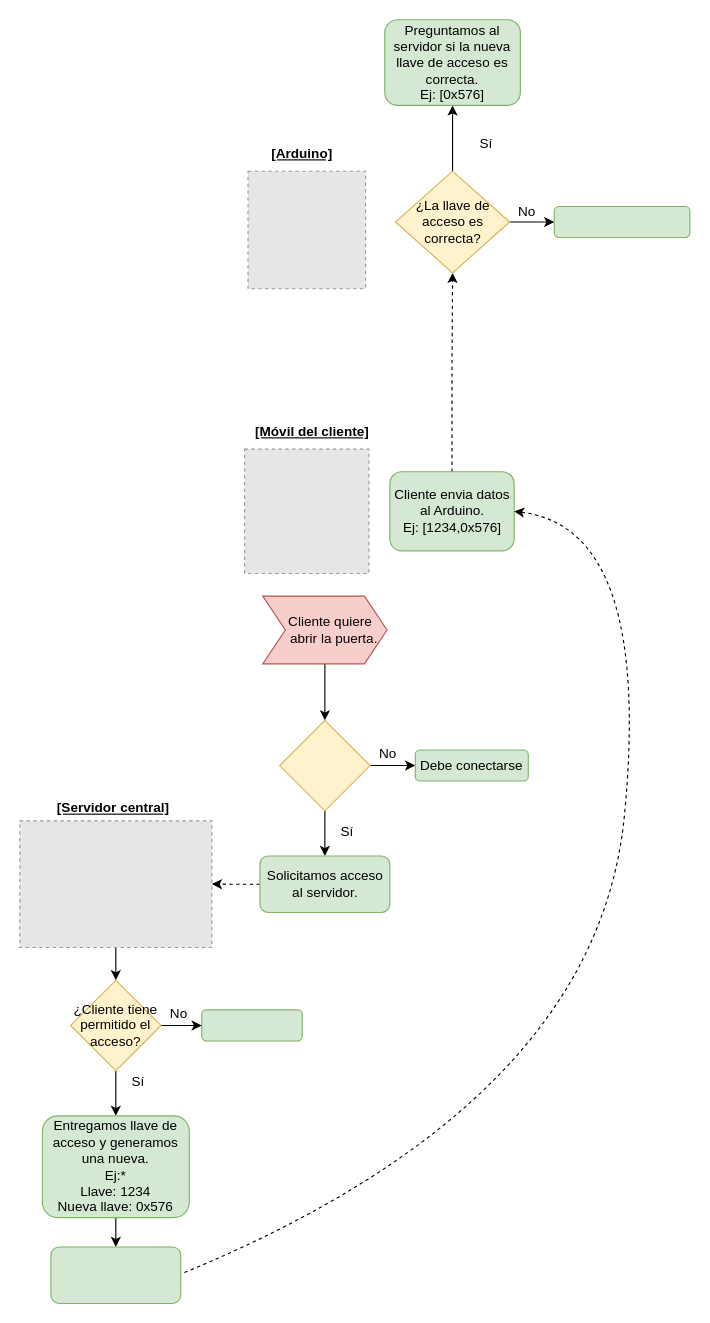
This 710x1323 diagram has some shape labels left out. Grey dashed boxes stand in for pictures. Here are the shapes that lost their labels. From the top down, the box of each, then its label:
(553, 205, 690, 238): Devolver un error
(279, 719, 370, 811): ¿Tiene datos/wifi?
(201, 1009, 302, 1041): Debe solicitarlo
(50, 1246, 181, 1303): Enviamos las dos llaves al cliente. Ej: [1234,0x576]
